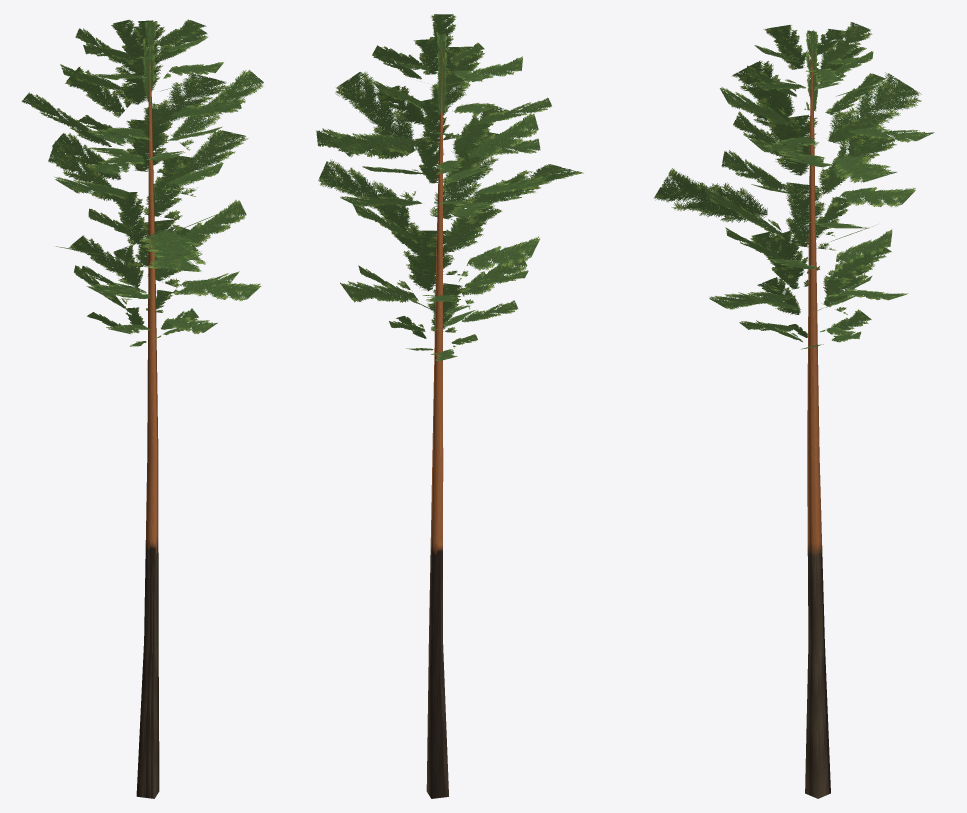
Rendered from mid.glb.
3 views of the same model, side by side, from view 1: azimuth 30°, elevation 25°; view 2: azimuth 150°, elevation 25°; view 3: azimuth 270°, elevation 25° (orthographic). The views are drawn at different scales.
Visible parts, largest first — view 1: pine_05; view 2: pine_05; view 3: pine_05.
Boxes of the visible parts, box(x1,y1,x2,y2) form: pine_05: box(21, 19, 263, 798); pine_05: box(316, 14, 583, 798); pine_05: box(653, 22, 934, 798).
Size of the model in its own units: 5.7 by 18.17 by 6.84.
Materials: 2 (2 with a texture image).
